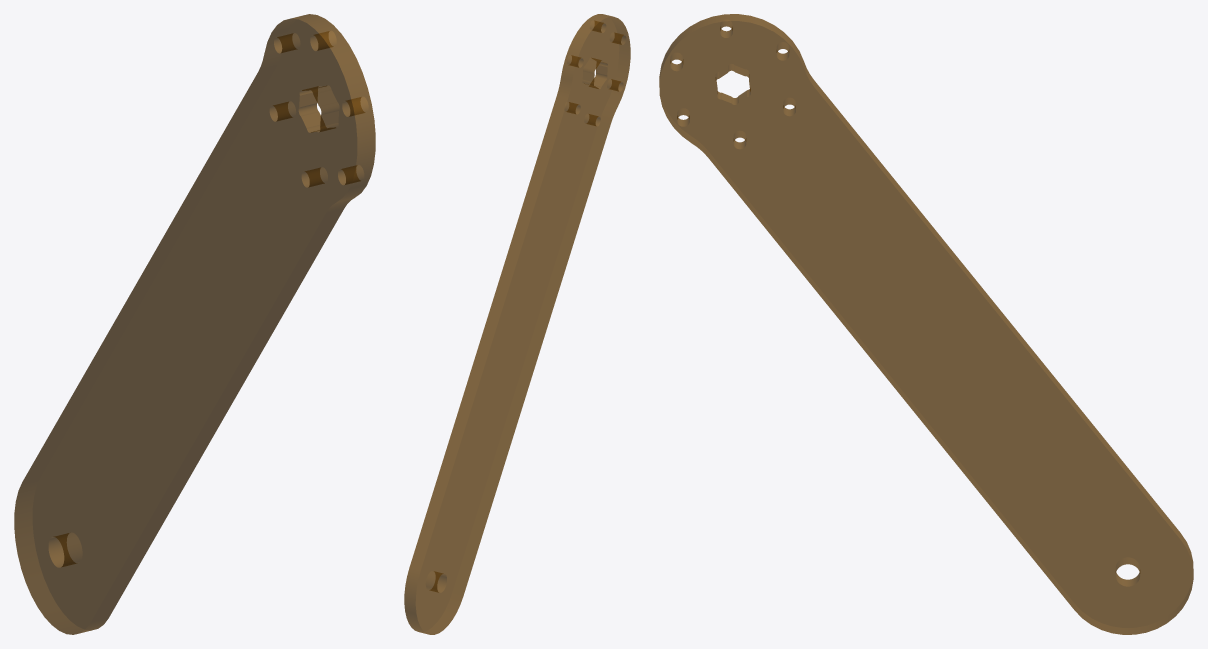
The picture shows the model from 3 angles, left to right: view 1: azimuth 30°, elevation 25°; view 2: azimuth 150°, elevation 25°; view 3: azimuth 270°, elevation 25°; orthographic projection. The views are drawn at different scales.
Visible parts, largest first — view 1: 4barplate:4; view 2: 4barplate:4; view 3: 4barplate:4.
Boxes of the visible parts, x1,y1,x2,y2 form: 4barplate:4: (14,14,375,634); 4barplate:4: (404,14,630,634); 4barplate:4: (659,14,1193,634).
Size of the model in its own units: 0.00635 by 0.2615 by 0.2062.
